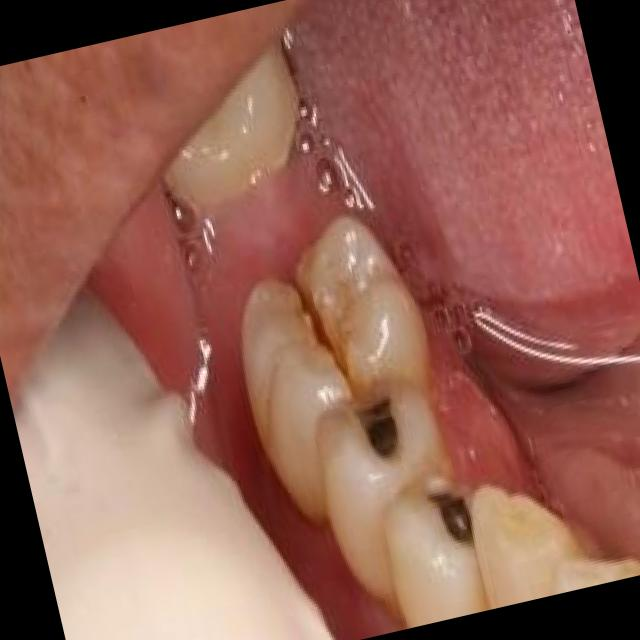Caries: (351, 396, 395, 454), (429, 492, 475, 545)
Crack: (288, 274, 350, 386)
Tooth: (240, 213, 434, 525), (315, 375, 449, 617), (383, 474, 487, 625), (469, 483, 589, 607), (554, 557, 640, 591)
